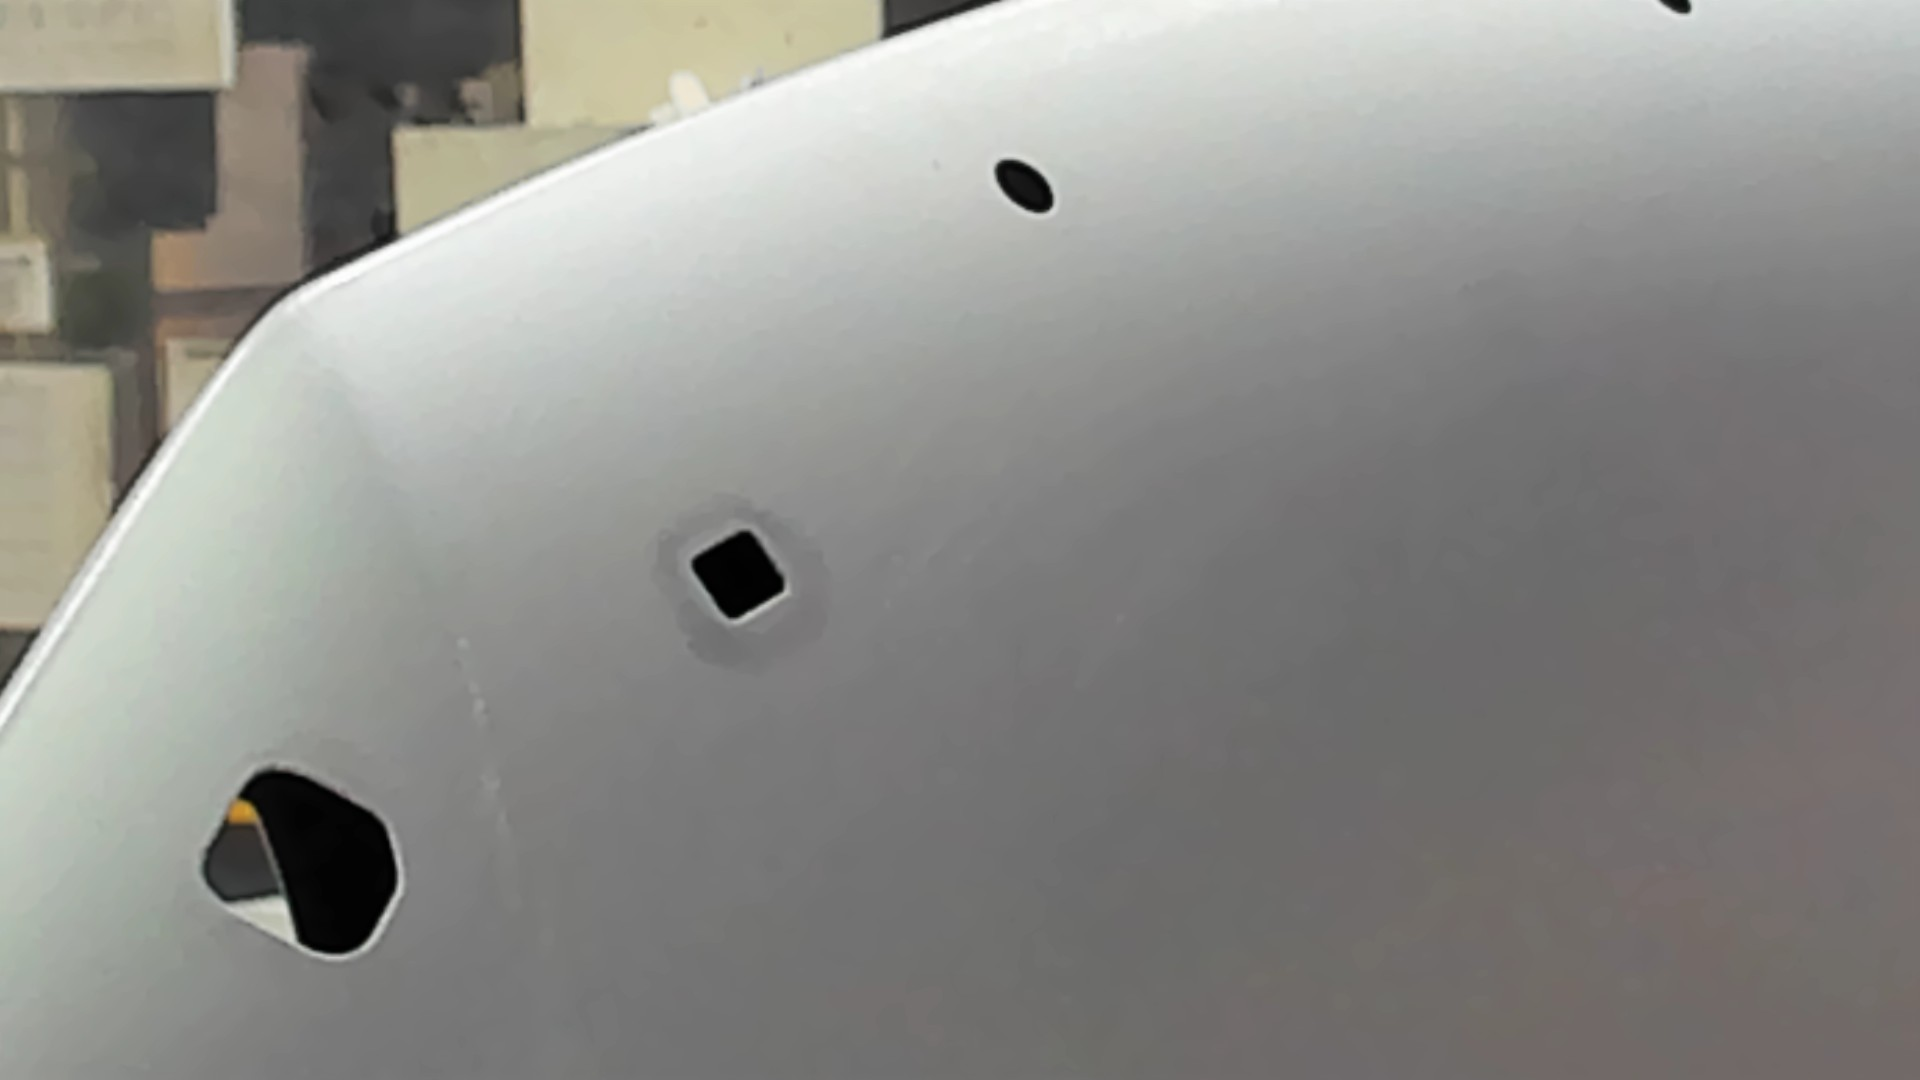chico: (992, 154, 1058, 218), (1662, 1, 1695, 16)
grande: (196, 764, 410, 963)
mediano: (688, 525, 793, 628)
